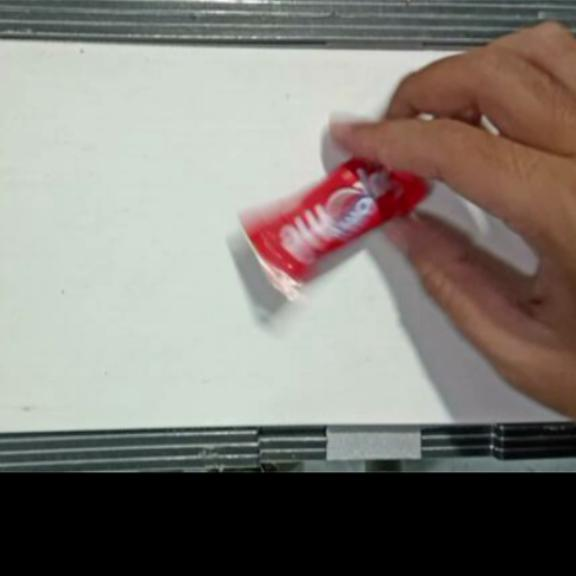Plastik: (239, 158, 433, 287)
